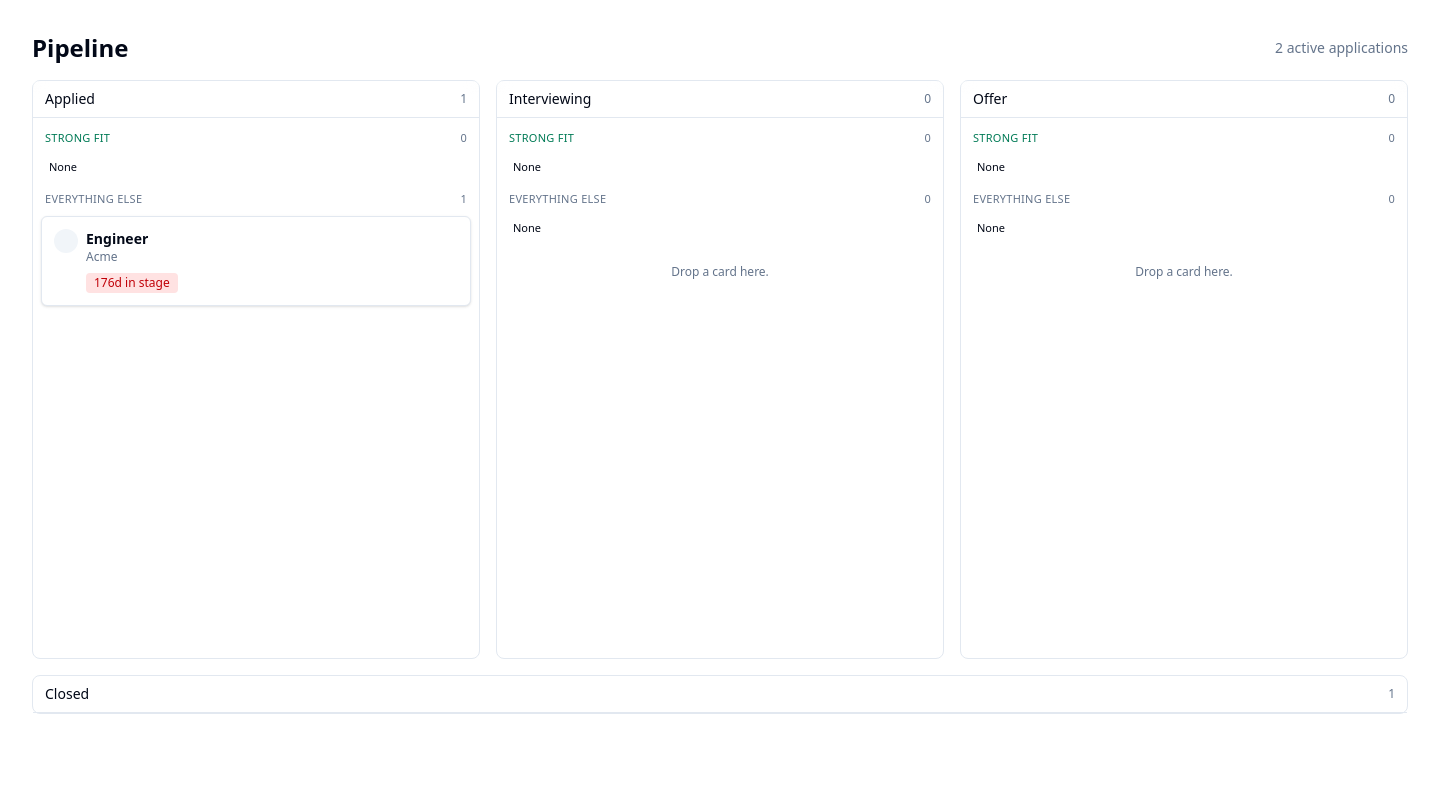
it: KanbanBoard › hides the Closed column behind a collapsed accordion by default
The image size is (1440, 810).
Click the button "Closed 1": (67, 694) [33,676,1407,713]
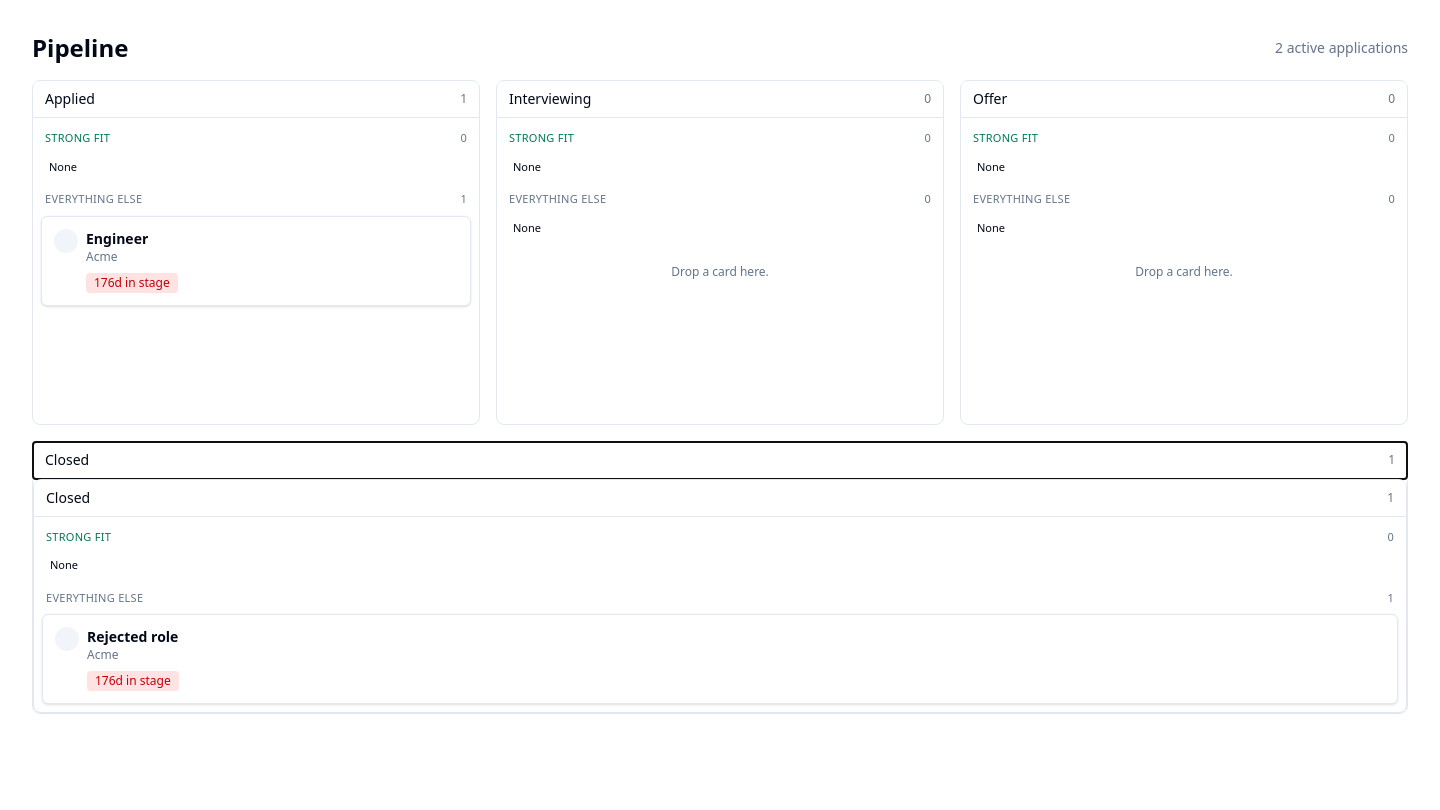
Now the element named "Closed column" is shown, box [33,478,1407,713]
Now the text "Rejected role" is shown, box [87,627,178,646]
